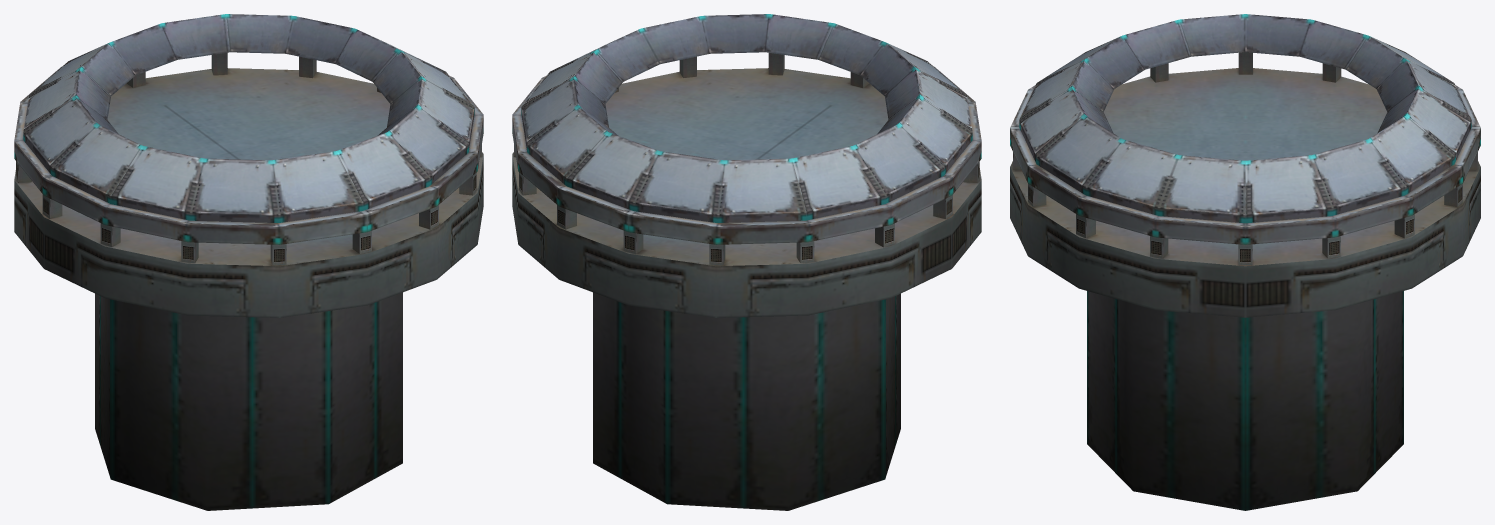
Rendered from yw_gonghuilingdi_jianzhu04.FBX.
3 renders of one model, left to right at view 1: azimuth 30°, elevation 25°; view 2: azimuth 150°, elevation 25°; view 3: azimuth 270°, elevation 25°, orthographic.
Parts seen in each view (by area): view 1: yw_gonghuilingdi_jianzhu04; view 2: yw_gonghuilingdi_jianzhu04; view 3: yw_gonghuilingdi_jianzhu04.
Boxes of the visible parts, bbox=[...] form: yw_gonghuilingdi_jianzhu04: bbox=[14, 14, 483, 510]; yw_gonghuilingdi_jianzhu04: bbox=[512, 14, 981, 510]; yw_gonghuilingdi_jianzhu04: bbox=[1010, 14, 1480, 510].
Bounding box in the file's own units: 356 × 298 × 356.
